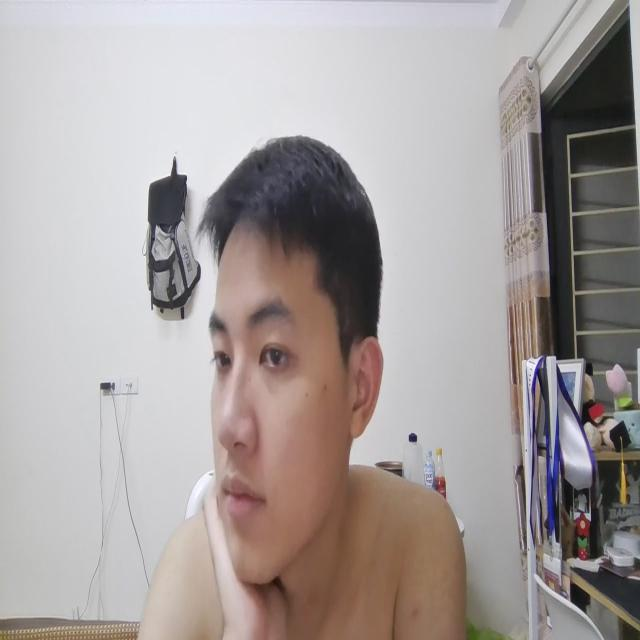student: (190, 118, 403, 637)
